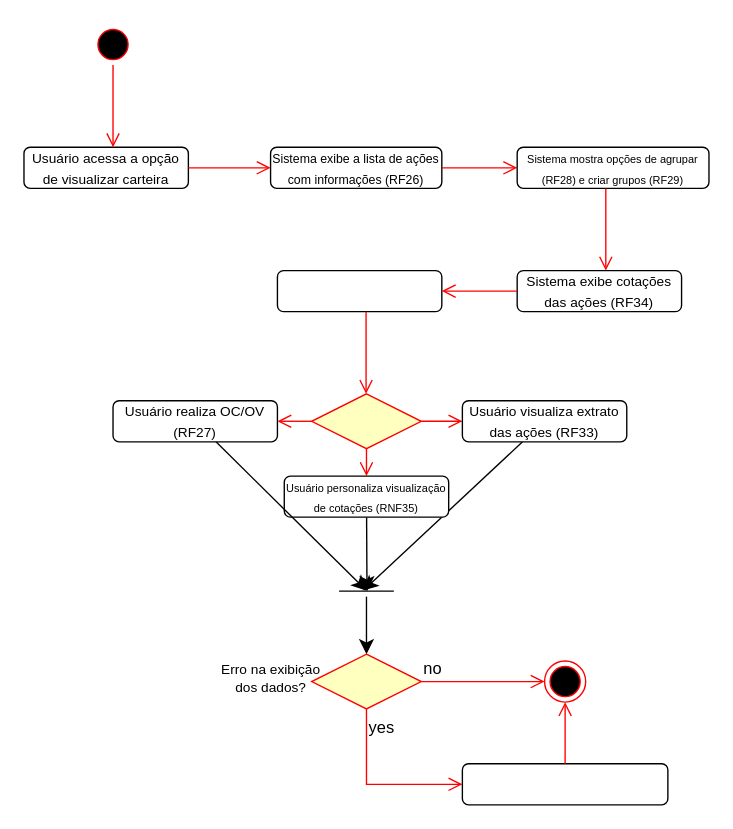
Some shapes in this 733 by 829 pixel diagram are drawn without their labels. The shapes that lost their labels are listed below. From the top down, each one's centre as x and y in pixels, then its label:
point (359, 290): Sistema mostra botão de "negócio rápido
point (365, 421): Desvio
point (564, 783): Sistema Mostra erro de mensagem e sugere nova tentativa
